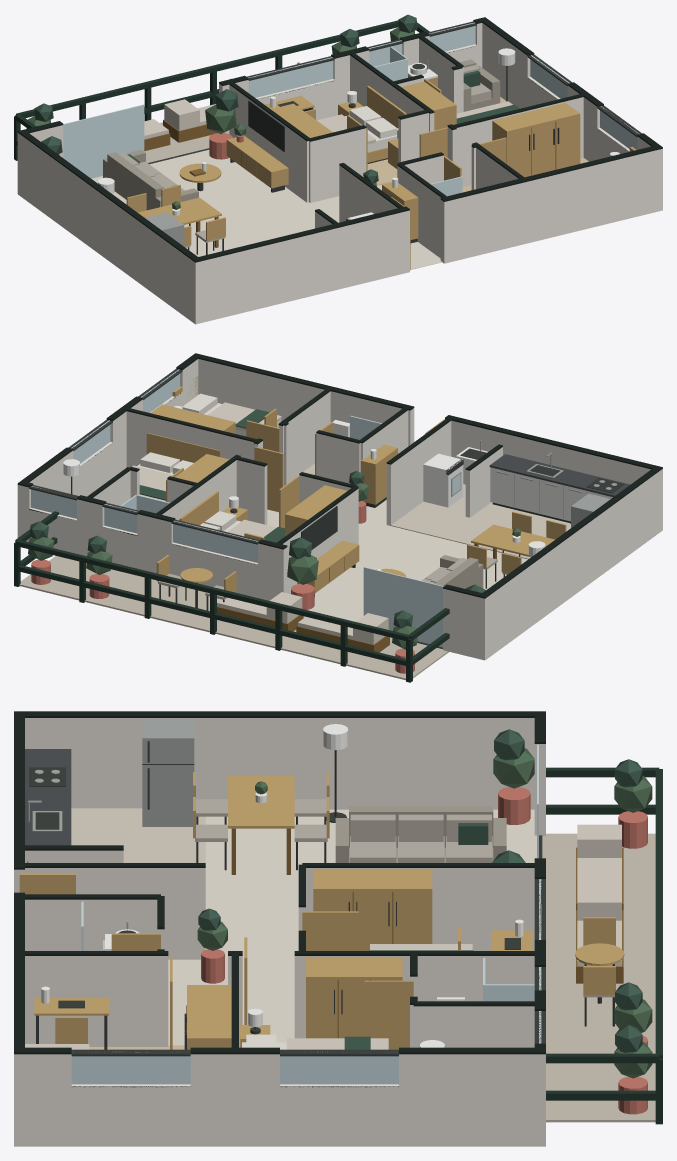
Rendered from interior-tipo-b-simples.glb.
The picture shows the model from 3 angles, top to bottom: view 1: azimuth 30°, elevation 25°; view 2: azimuth 150°, elevation 25°; view 3: azimuth 270°, elevation 25°; orthographic projection. The views are drawn at different scales.
Visible parts, largest first — view 1: VIS__INTB_PAREDE, VIS__INTB_MADEIRA, VIS__INTB_VIDRO, VIS__INTB_CORTE, VIS__INTB_PISO, VIS__INTB_GUARDACORPO, VIS__INTB_ESCURO, VIS__INTB_ESTOFADO, VIS__INTB_SALVIA, VIS__INTB_TECIDO2, VIS__INTB_FOLHA, VIS__INTB_BRANCO (+7 smaller); view 2: VIS__INTB_PAREDE, VIS__INTB_MADEIRA, VIS__INTB_VIDRO, VIS__INTB_CORTE, VIS__INTB_GUARDACORPO, VIS__INTB_VARANDA, VIS__INTB_PISO, VIS__INTB_BRANCO, VIS__INTB_TECIDO2, VIS__INTB_ESCURO, VIS__INTB_MOLHADO, VIS__INTB_SALVIA (+8 smaller); view 3: VIS__INTB_PAREDE, VIS__INTB_MADEIRA, VIS__INTB_VARANDA, VIS__INTB_CORTE, VIS__INTB_PISO, VIS__INTB_VIDRO, VIS__INTB_ESTOFADO2, VIS__INTB_GUARDACORPO, VIS__INTB_ESCURO, VIS__INTB_TECIDO2, VIS__INTB_INOX, VIS__INTB_MOLHADO (+7 smaller).
Boxes of the visible parts, box(x1,y1,x2,y2) form: VIS__INTB_PAREDE: box(17, 23, 662, 324); VIS__INTB_MADEIRA: box(126, 62, 636, 270); VIS__INTB_VIDRO: box(63, 22, 639, 196); VIS__INTB_CORTE: box(17, 17, 662, 262); VIS__INTB_PISO: box(91, 150, 441, 269); VIS__INTB_GUARDACORPO: box(14, 20, 429, 160); VIS__INTB_ESCURO: box(148, 21, 641, 254); VIS__INTB_ESTOFADO: box(103, 59, 500, 210); VIS__INTB_SALVIA: box(34, 14, 519, 183); VIS__INTB_TECIDO2: box(144, 99, 512, 144); VIS__INTB_FOLHA: box(26, 27, 414, 209); VIS__INTB_BRANCO: box(98, 48, 619, 219); VIS__INTB_PAREDE: box(17, 359, 662, 660); VIS__INTB_MADEIRA: box(146, 376, 566, 597); VIS__INTB_VIDRO: box(31, 369, 460, 647); VIS__INTB_CORTE: box(17, 353, 662, 598); VIS__INTB_GUARDACORPO: box(14, 511, 449, 682); VIS__INTB_VARANDA: box(19, 556, 448, 680); VIS__INTB_PISO: box(267, 500, 527, 621); VIS__INTB_BRANCO: box(63, 406, 612, 570); VIS__INTB_TECIDO2: box(132, 402, 388, 644); VIS__INTB_ESCURO: box(29, 368, 624, 648); VIS__INTB_MOLHADO: box(290, 463, 570, 559); VIS__INTB_SALVIA: box(29, 409, 485, 628); VIS__INTB_PAREDE: box(14, 718, 545, 1146); VIS__INTB_MADEIRA: box(19, 772, 624, 1049); VIS__INTB_VARANDA: box(542, 833, 655, 1122); VIS__INTB_CORTE: box(14, 711, 545, 1087); VIS__INTB_PISO: box(168, 809, 536, 1045); VIS__INTB_VIDRO: box(71, 744, 541, 1084); VIS__INTB_ESTOFADO2: box(195, 799, 614, 997); VIS__INTB_GUARDACORPO: box(546, 767, 662, 1124); VIS__INTB_ESCURO: box(29, 741, 614, 1056); VIS__INTB_TECIDO2: box(25, 824, 621, 1049); VIS__INTB_INOX: box(27, 720, 194, 929); VIS__INTB_MOLHADO: box(71, 808, 205, 862).
Bounding box in the file's own units: 10.85 × 1.52 × 8.72.
